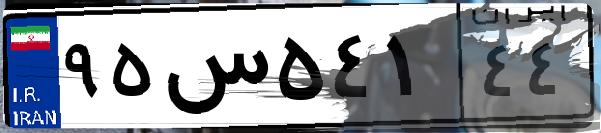1: (385, 28, 445, 110)
4: (330, 28, 385, 110), (475, 38, 525, 113), (525, 38, 570, 115)
5: (270, 28, 330, 110), (110, 28, 158, 98)
9: (57, 26, 110, 100)
س: (158, 20, 270, 120)
